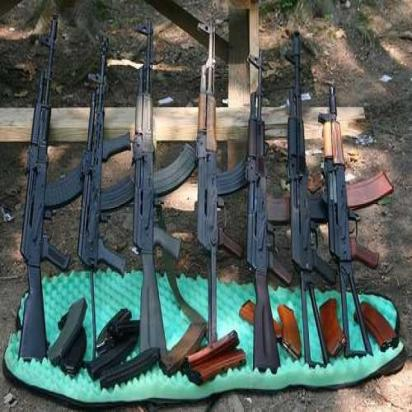Gun: (16, 10, 70, 384), (72, 11, 122, 374), (325, 39, 378, 369), (234, 38, 282, 383), (130, 21, 174, 359), (284, 31, 322, 369), (189, 22, 226, 350)
